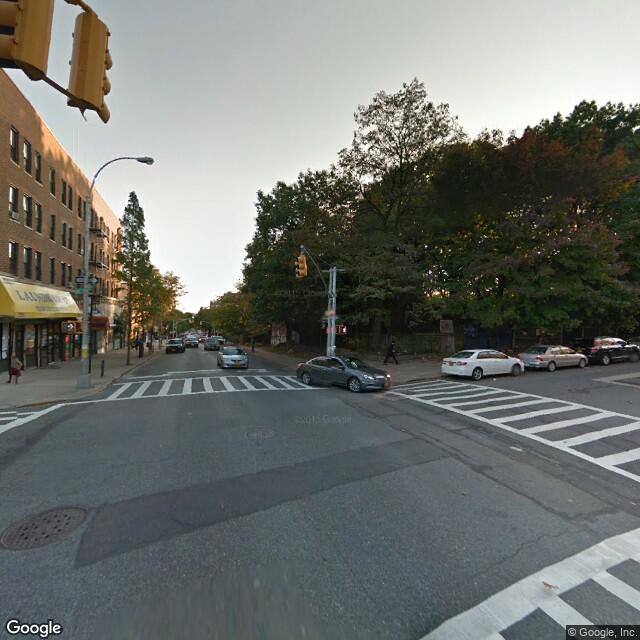litter: (508, 441, 522, 452), (492, 375, 499, 381)
